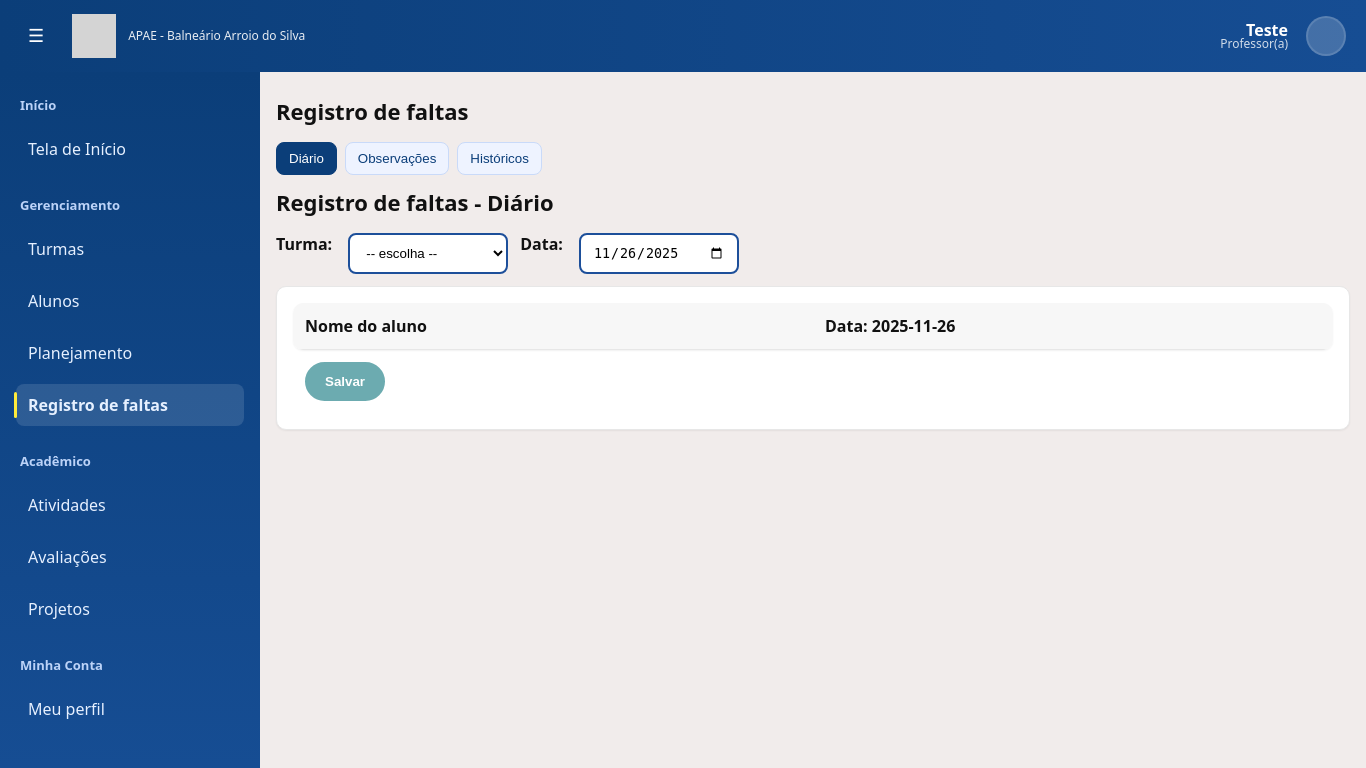
Test: Registro de Faltas - Históricos › busca históricos no período
Click the button "Históricos". click: (500, 159)
box: [457,142,542,175]
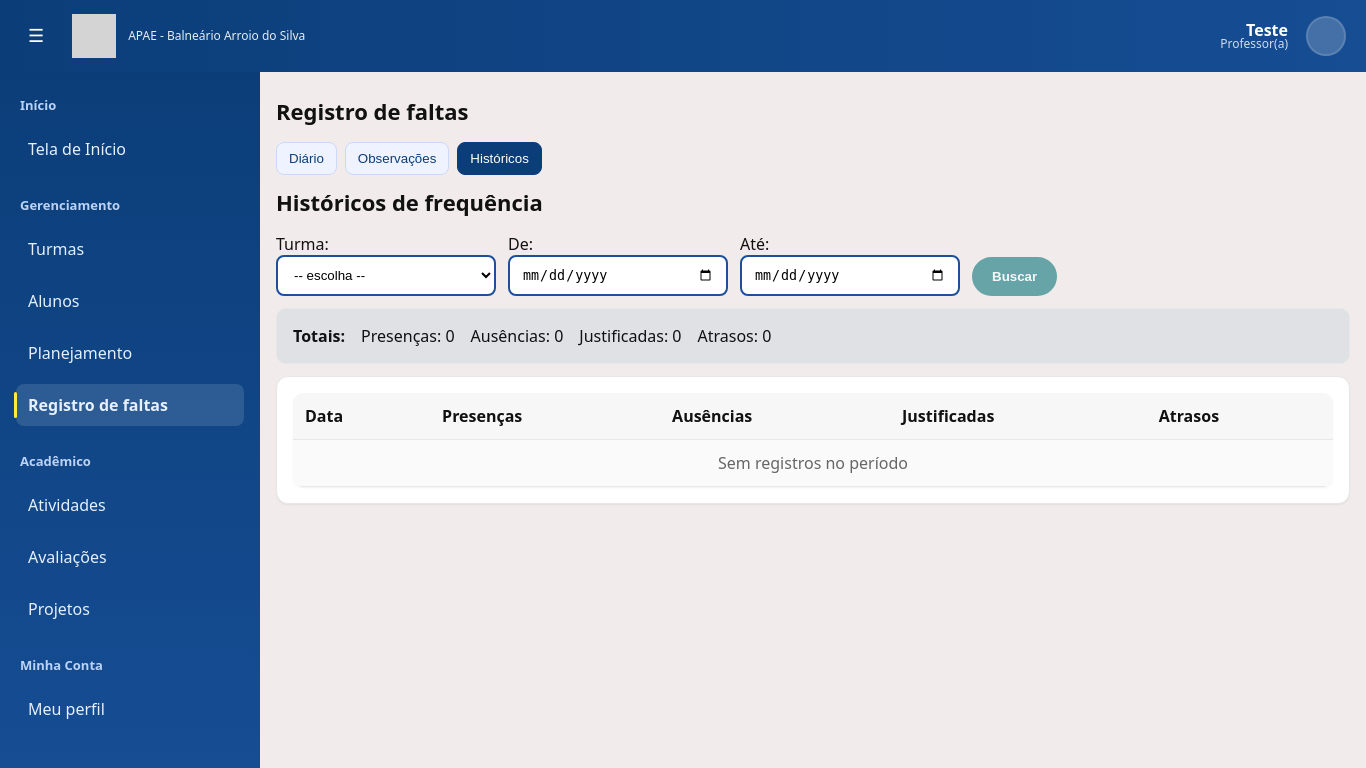
Select "Turma 1" in the dropdown. click: (386, 276)
box: [276,255,496,296]
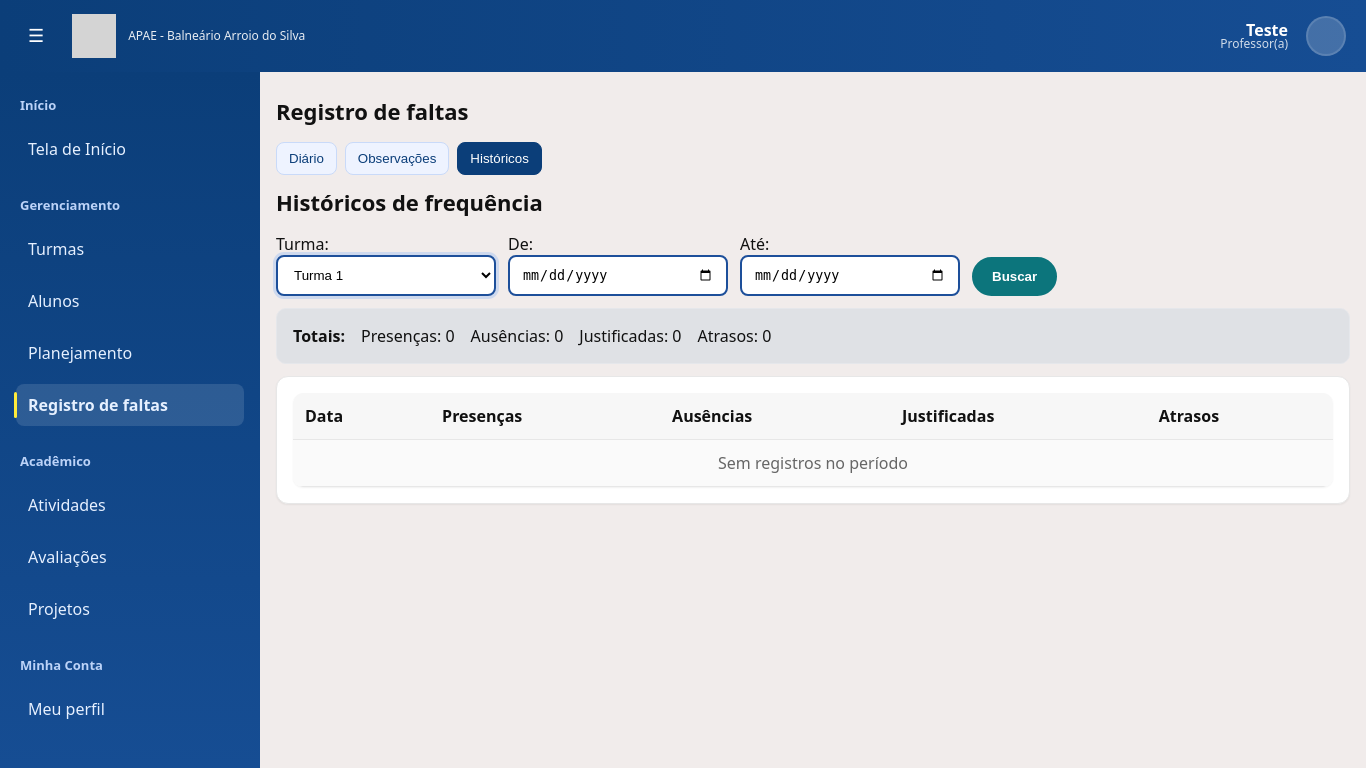
Type "2025-09-01" into the date field below "De:". click: (618, 276)
box: [508,255,728,296]
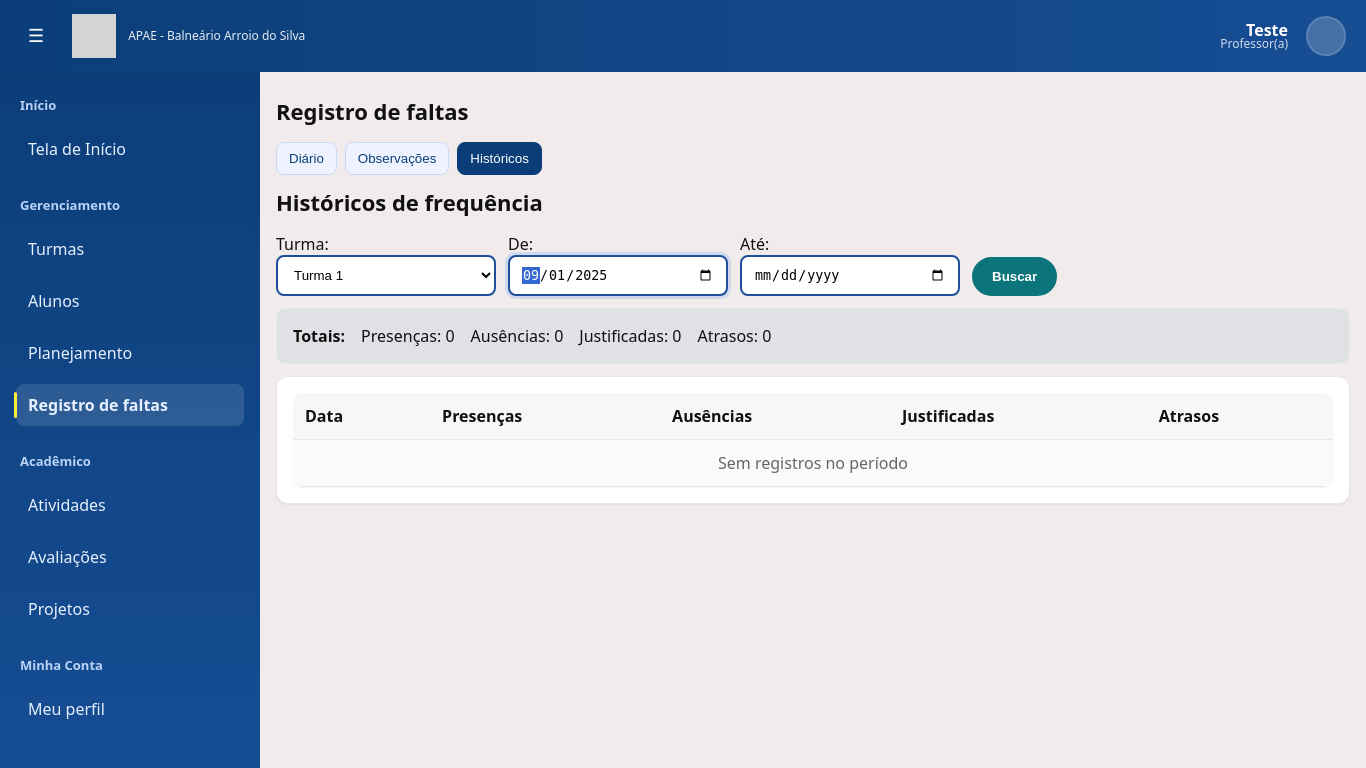
Type "2025-09-30" into the date field below "Até:". click: (850, 276)
box: [740,255,960,296]
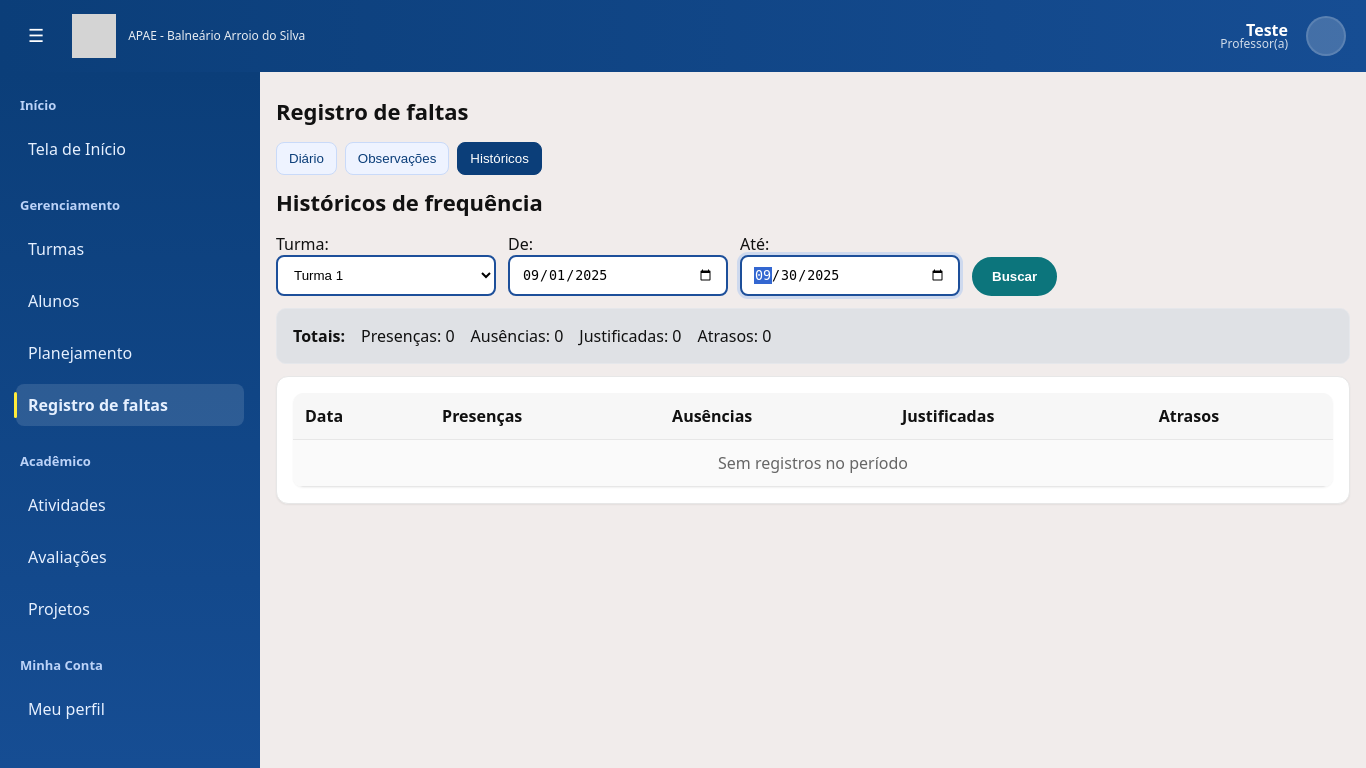
Click the button "Buscar". click: (1015, 277)
box: [972,257,1057,296]
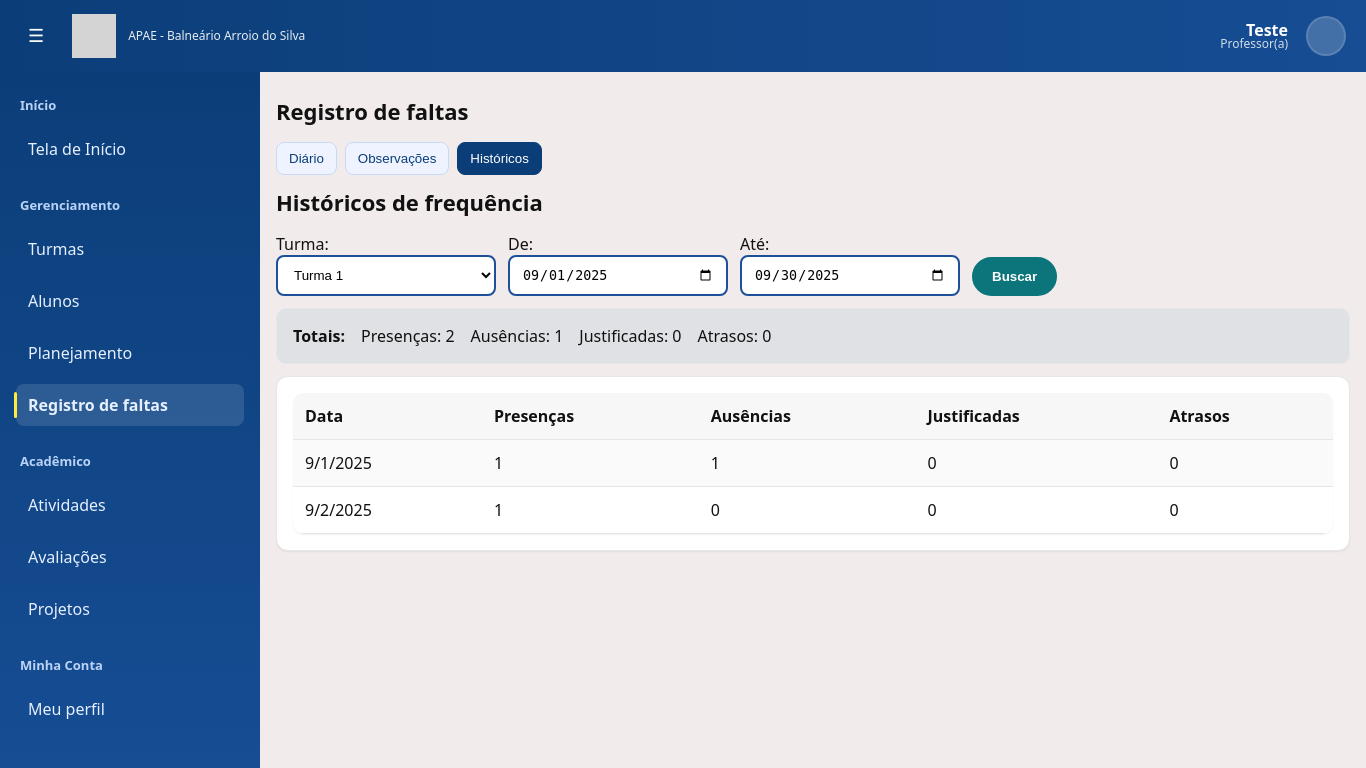
Check: the text "Presenças" is shown, box [361,325,445,347]
Check: the number of rows is at least 1
